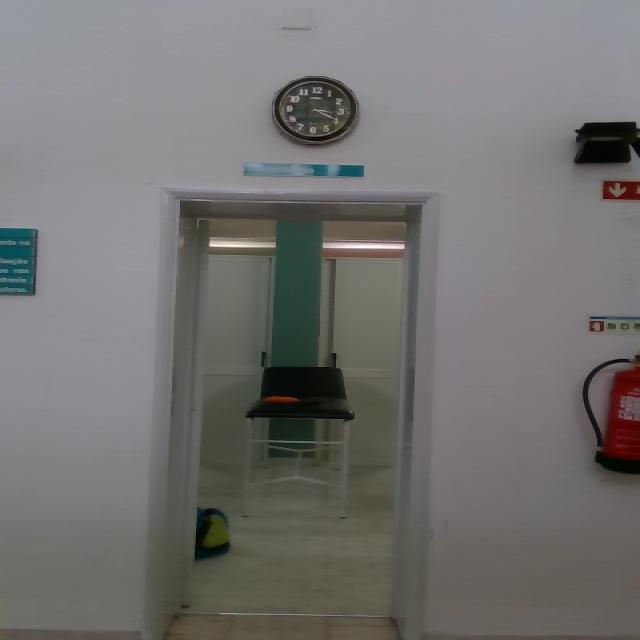open: (140, 181, 451, 639)
